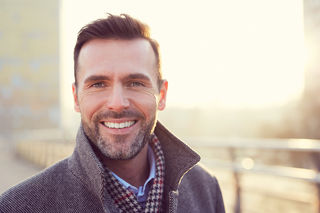shoot: (97, 117, 142, 132)
